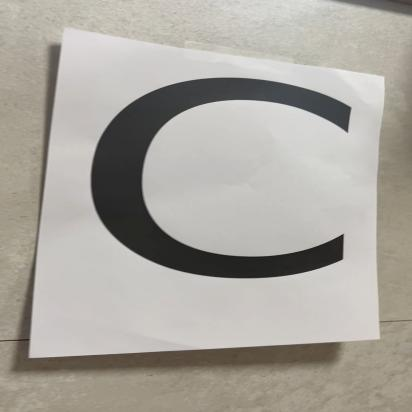seat: (133, 169, 292, 321)
